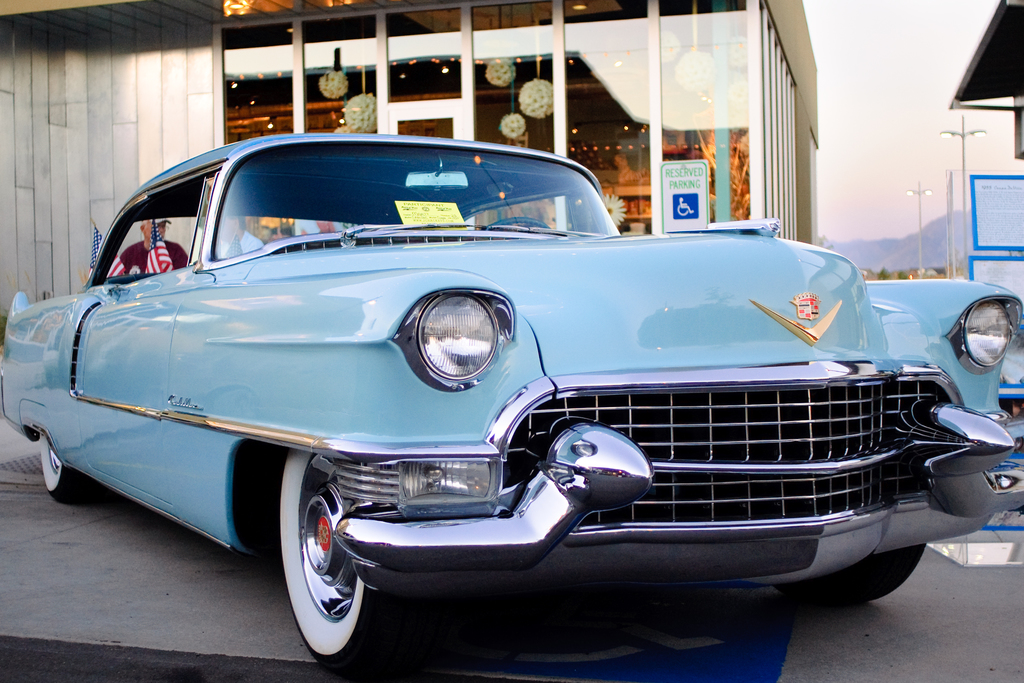Car: (0, 127, 1022, 681)
